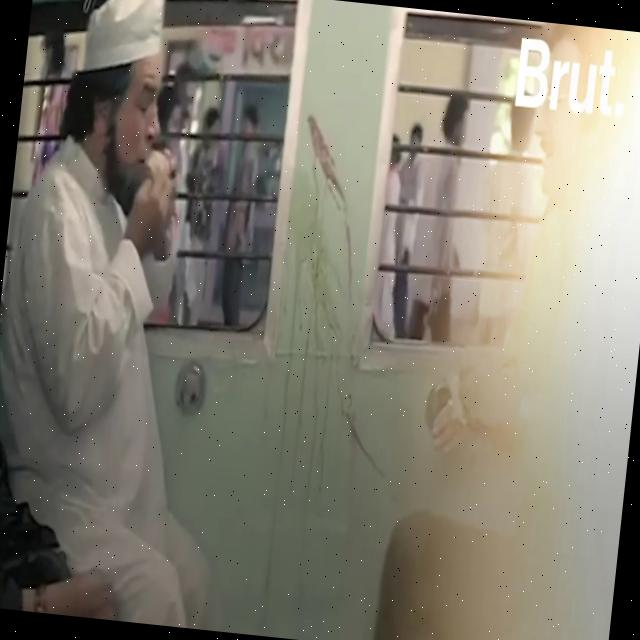spit: (264, 111, 374, 467)
